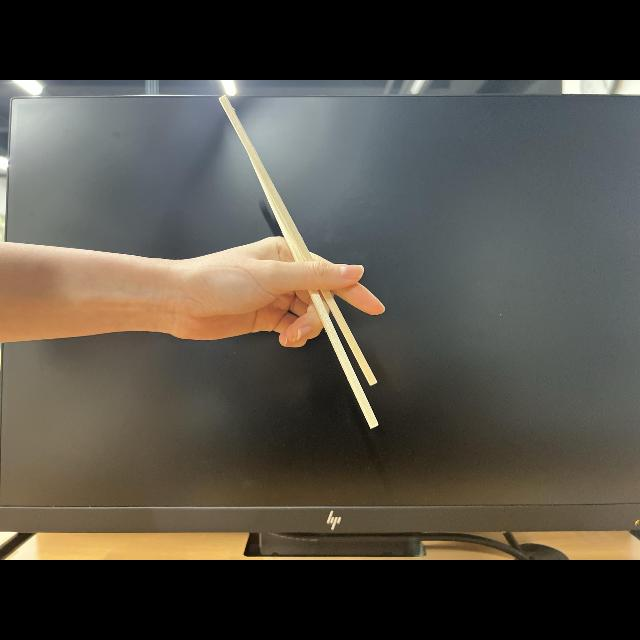stick: (220, 98, 378, 426)
